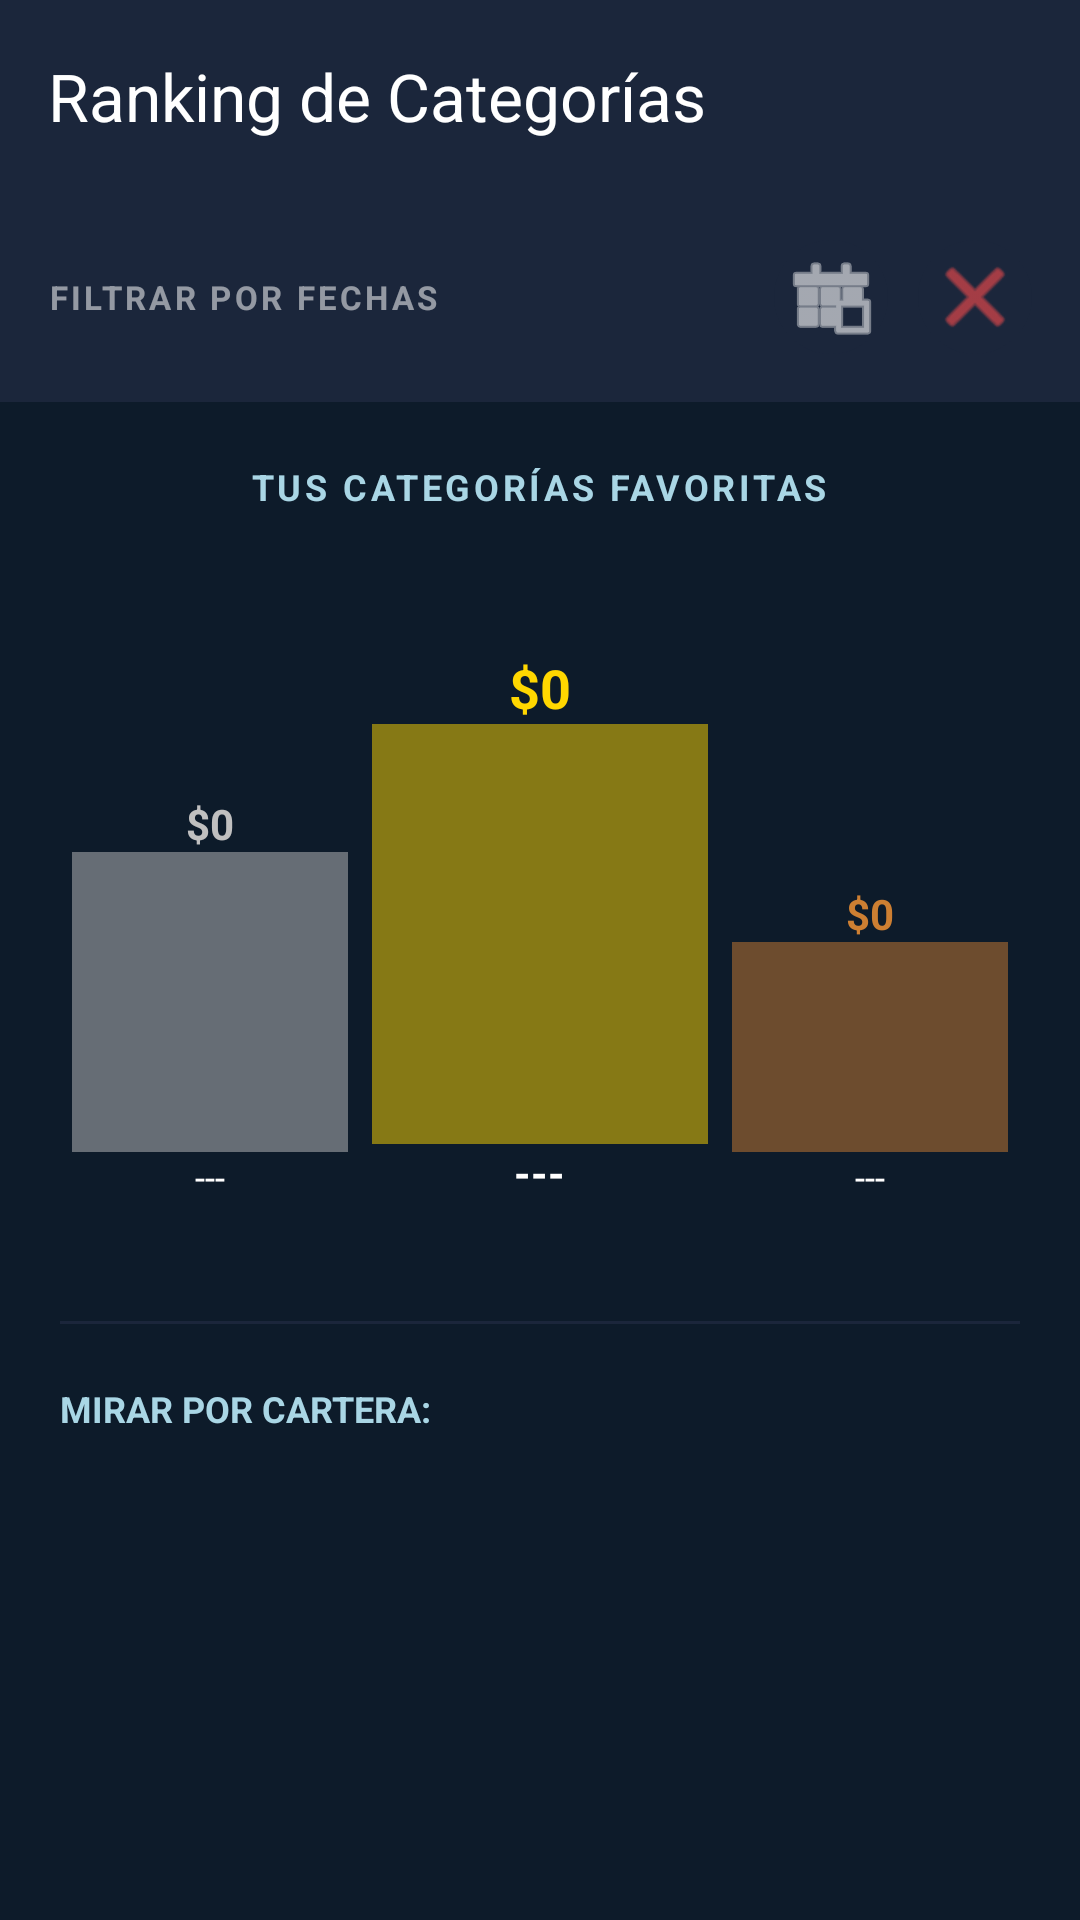

Screen size 1080 × 1920. Icon name, then its center in pixels as (x=x, y=y):
Limpiar: (x=975, y=297)
